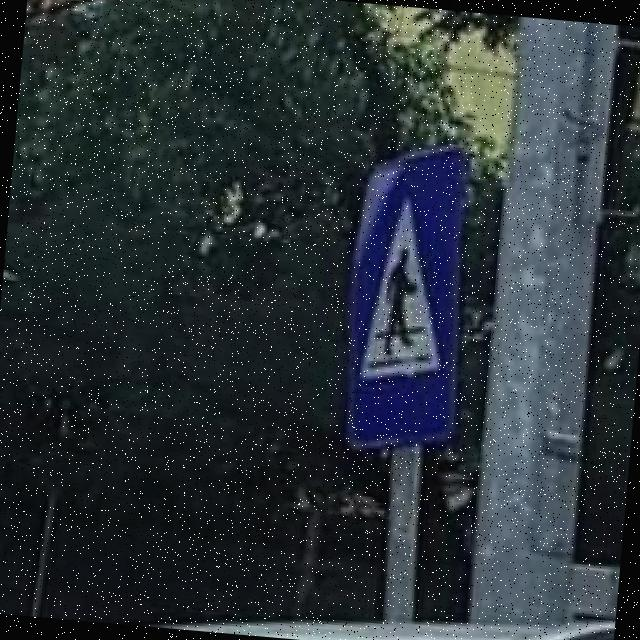Przejscie dla pieszych: (344, 142, 477, 447)
